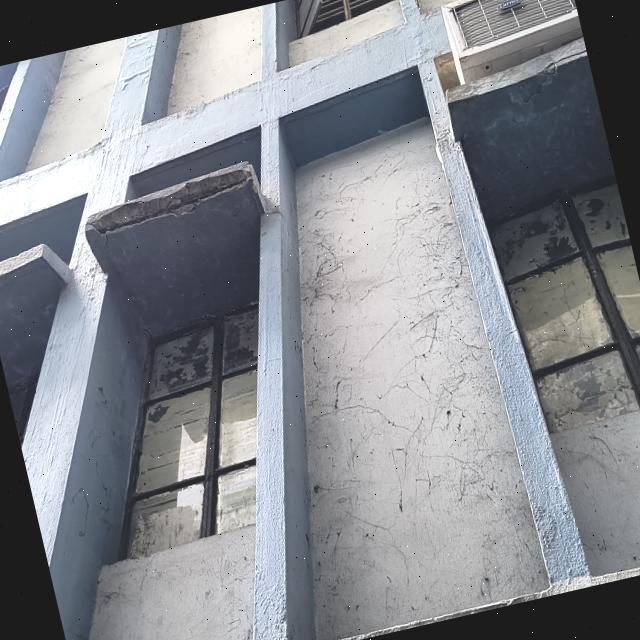Crack: (515, 45, 587, 107)
Spalling: (85, 161, 254, 253)
